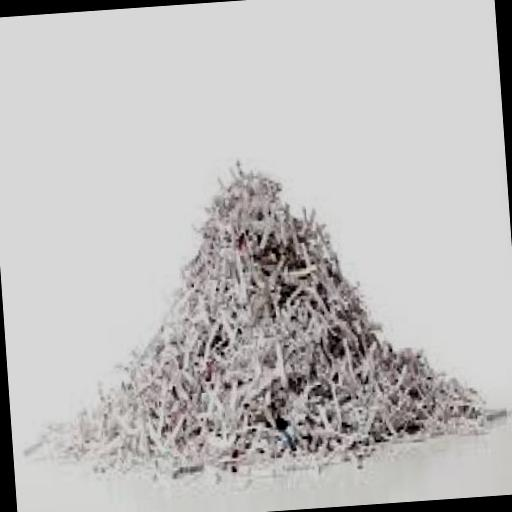paper: (5, 139, 512, 498)
